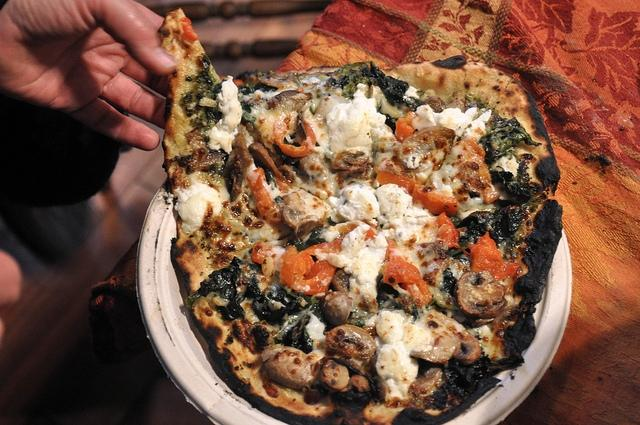mushroom: (244, 90, 313, 142), (398, 126, 455, 170), (456, 270, 508, 318), (259, 347, 314, 390), (326, 324, 377, 366), (223, 133, 254, 201), (248, 142, 293, 188), (410, 361, 447, 397), (320, 291, 354, 327), (452, 162, 486, 194), (410, 346, 456, 364), (452, 340, 482, 365), (282, 206, 308, 230), (342, 152, 368, 166)
tomato: (279, 234, 347, 294), (469, 232, 519, 281), (274, 122, 316, 158), (412, 184, 459, 216), (247, 167, 273, 216), (382, 256, 422, 286), (376, 167, 416, 196), (434, 212, 462, 250), (395, 111, 418, 142), (250, 242, 276, 265), (180, 17, 198, 41)
